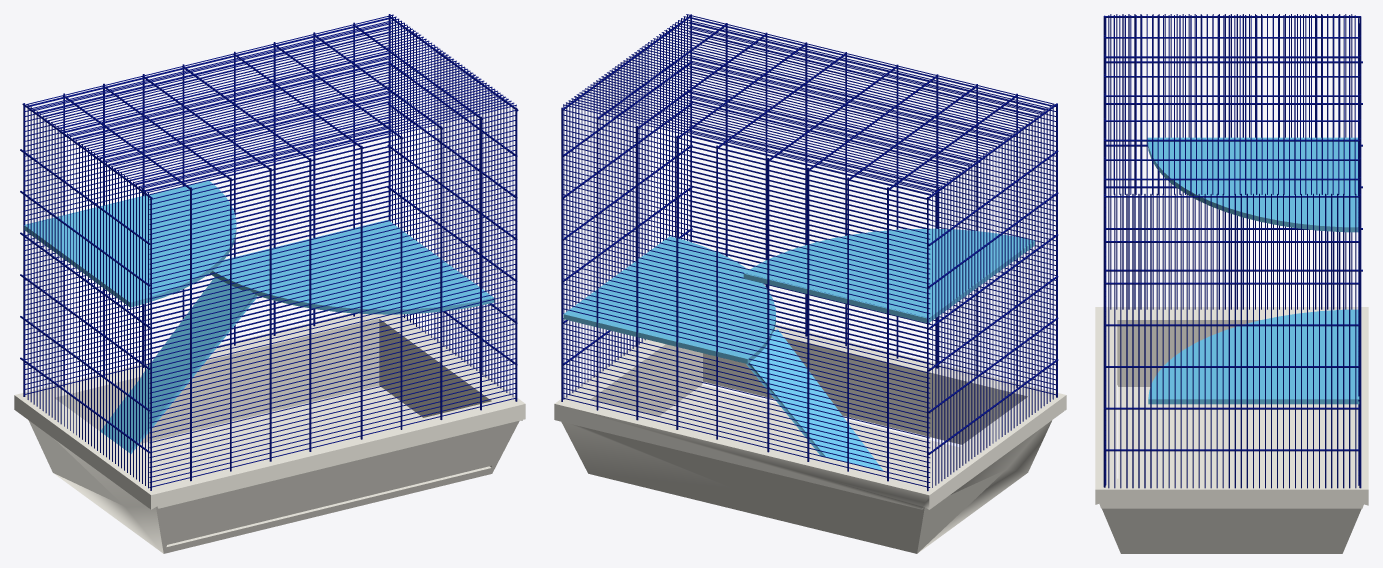
Rendered from cageFuret.obj.
The picture shows the model from 3 angles, left to right: view 1: azimuth 30°, elevation 25°; view 2: azimuth 150°, elevation 25°; view 3: azimuth 270°, elevation 25°; orthographic projection.
Visible parts, largest first — view 1: Boolean_5_297, Boolean_6_299, Boolean_6_1_300, Cube_7_298, Cylinder_2_3_66, Cylinder_2_5_68, Cylinder_2_6_69, Cylinder_2_4_67, Cylinder_2_7_70, Cylinder_2_9_72, Cylinder_2_19_82; view 2: Boolean_5_297, Boolean_6_1_300, Boolean_6_299, Cube_7_298, Cylinder_2_15_78, Cylinder_2_12_75, Cylinder_2_13_76, Cylinder_2_11_74, Cylinder_2_16_79; view 3: Boolean_5_297, Boolean_6_299, Boolean_6_1_300, Cylinder_2_10_73, Cylinder_2_9_72, Cylinder_3_2_147, Cylinder_3_6_151, Cylinder_4_2_203, Cylinder_4_5_206, Cylinder_4_1_202, Cylinder_4_4_205, Cylinder_3_8_153 (+103 smaller).
Boxes of the visible parts, x1,y1,x2,y2 form: Boolean_5_297: (14,313,525,553); Boolean_6_299: (209,220,494,314); Boolean_6_1_300: (24,181,236,307); Cube_7_298: (101,277,257,453); Cylinder_2_3_66: (269,168,271,461); Cylinder_2_5_68: (360,145,362,439); Cylinder_2_6_69: (400,136,402,429); Cylinder_2_4_67: (309,158,311,451); Cylinder_2_7_70: (440,126,442,419); Cylinder_2_9_72: (515,108,517,401); Cylinder_2_19_82: (23,103,25,396); Boolean_5_297: (554,324,1066,553); Boolean_6_1_300: (743,228,1034,323); Boolean_6_299: (563,236,775,363); Cube_7_298: (746,329,882,470); Cylinder_2_15_78: (767,158,769,452); Cylinder_2_12_75: (636,126,638,420); Cylinder_2_13_76: (676,135,678,429); Cylinder_2_11_74: (596,116,598,410); Cylinder_2_16_79: (807,167,809,461); Boolean_5_297: (1095,307,1368,553); Boolean_6_299: (1148,309,1359,404); Boolean_6_1_300: (1147,137,1358,232); Cylinder_2_10_73: (1359,194,1361,488); Cylinder_2_9_72: (1103,194,1105,487); Cylinder_3_2_147: (1104,56,1359,58); Cylinder_3_6_151: (1104,139,1359,141); Cylinder_4_2_203: (1103,407,1359,409); Cylinder_4_5_206: (1103,282,1359,284); Cylinder_4_1_202: (1103,449,1359,451); Cylinder_4_4_205: (1103,324,1359,326); Cylinder_3_8_153: (1104,178,1359,180).
Bounding box in the file's own units: 79 × 74.53 × 50.
